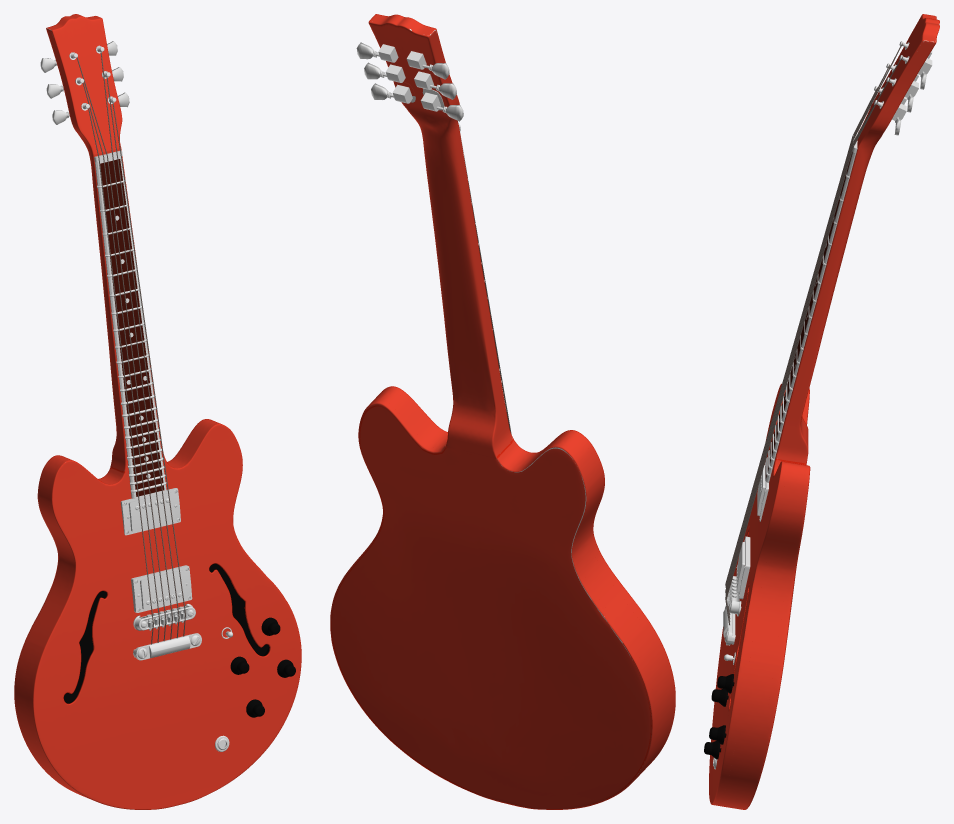
The model's file is 335full2-v1.glb.
3 renders of one model, left to right at view 1: azimuth 30°, elevation 25°; view 2: azimuth 150°, elevation 25°; view 3: azimuth 270°, elevation 25°, orthographic. The views are drawn at different scales.
Visible parts, largest first — view 1: varnish, fretboard, strings, pickup_cover, fretbinding, frets, tail_saddle, UN_inside, pickup_ring, mechs, knobs; view 2: varnish, mechs; view 3: varnish, strings, fretbinding, mechs, knobs, fretboard, tail_saddle, frets, pickup_cover, pickup_ring.
Part boxes in pixels (x1,y1,x2,y2): varnish: (14, 14, 301, 809); fretboard: (100, 159, 164, 496); strings: (77, 51, 185, 644); pickup_cover: (128, 492, 186, 609); fretbinding: (95, 156, 166, 498); frets: (97, 179, 166, 492); tail_saddle: (133, 604, 201, 660); UN_inside: (63, 563, 269, 703); pickup_ring: (120, 488, 192, 612); mechs: (40, 41, 129, 124); knobs: (230, 617, 295, 717); varnish: (330, 14, 675, 809); mechs: (356, 42, 463, 121); varnish: (709, 14, 939, 809); strings: (725, 42, 902, 625); fretbinding: (765, 152, 856, 482); mechs: (874, 41, 932, 135); knobs: (704, 674, 734, 759); fretboard: (765, 152, 852, 478); tail_saddle: (723, 576, 741, 645); frets: (766, 173, 849, 476); pickup_cover: (736, 465, 765, 592); pickup_ring: (739, 461, 768, 599).
Size of the model in its own units: 0.7737 by 1.98 by 0.5506.
